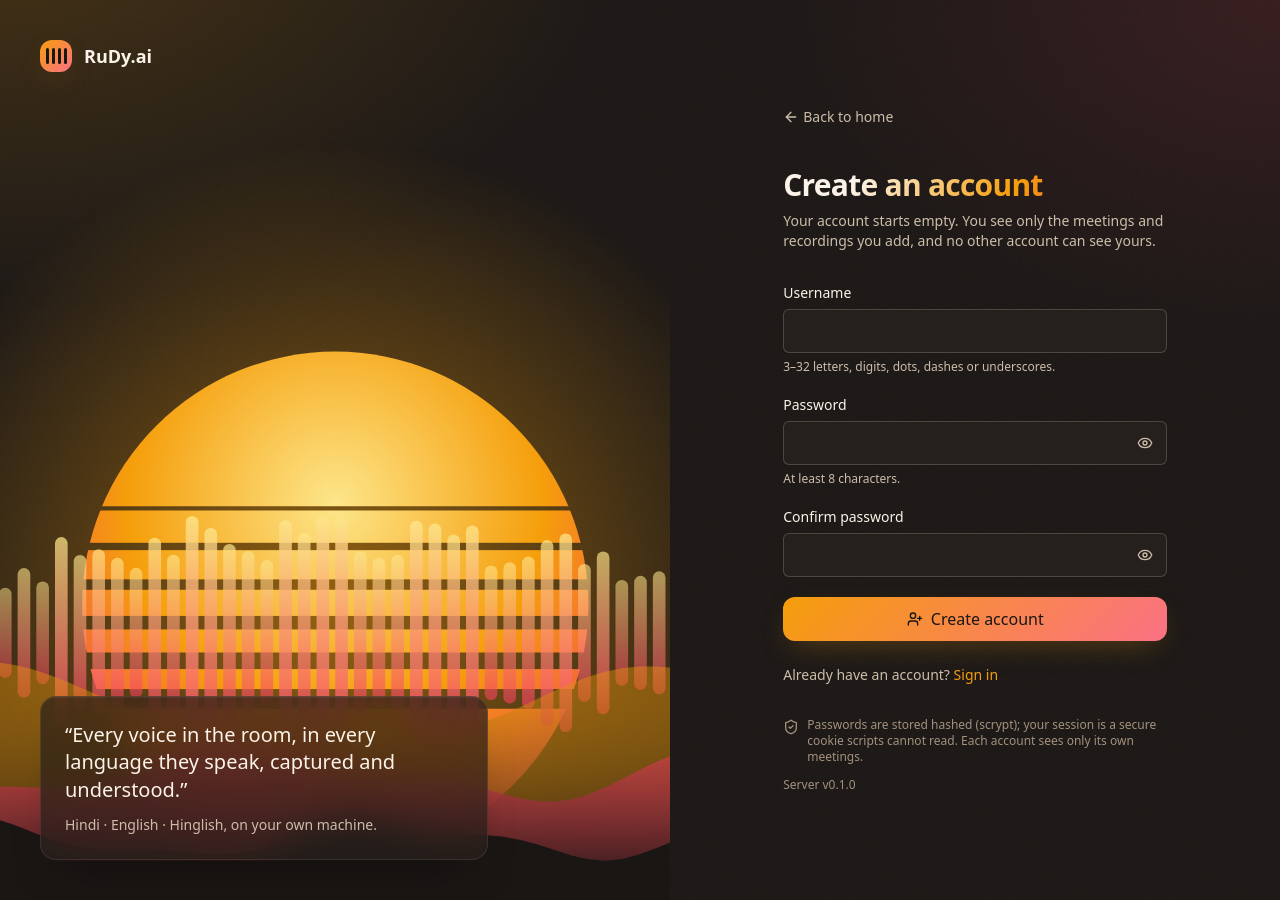
Test: creating another account › shows the server refusing a taken username
In the field labelled "Username": x=975, y=331 [783,309,1167,353], type "rushi"
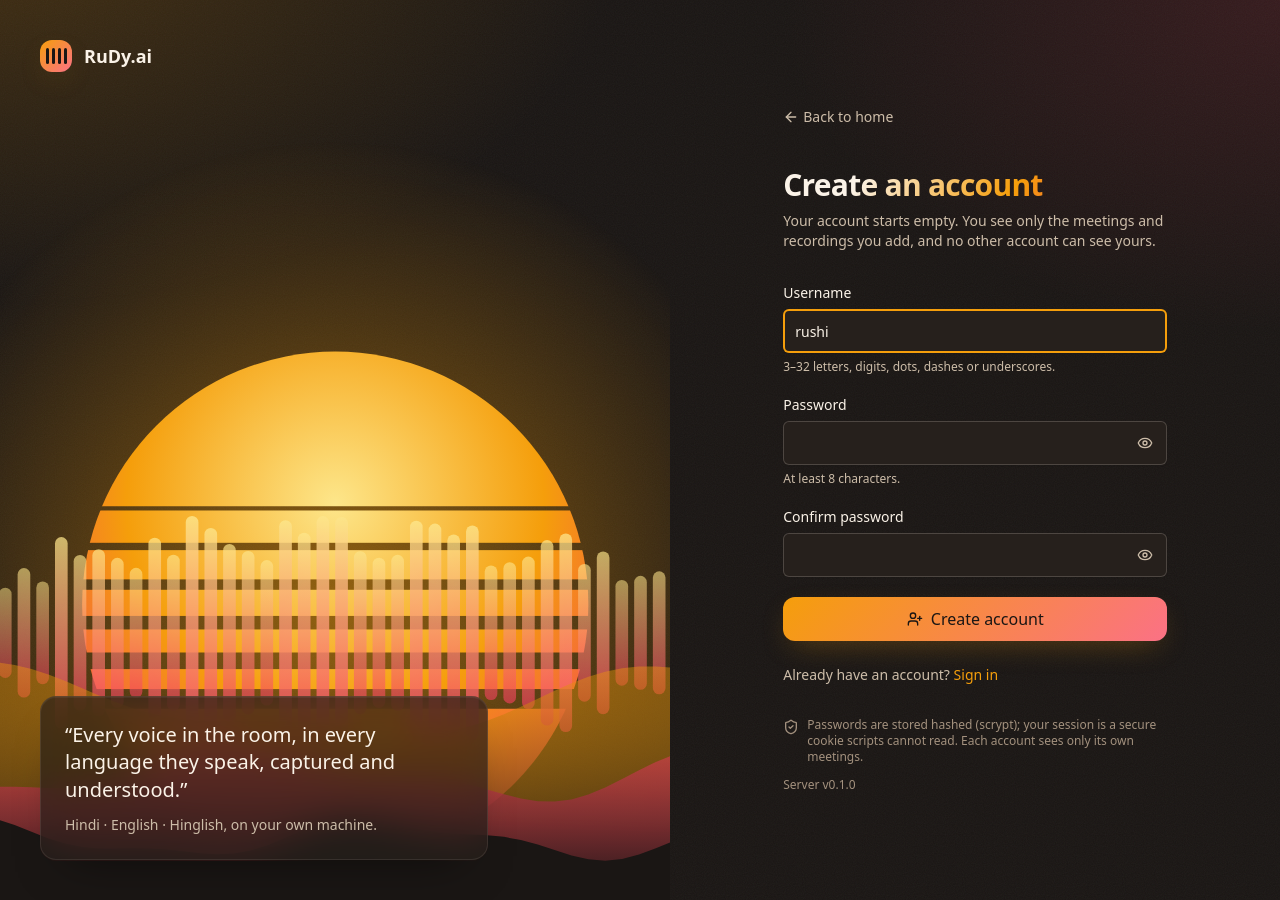
In the password field labelled "Password": x=975, y=443 [783,421,1167,465], type "a-good-password"
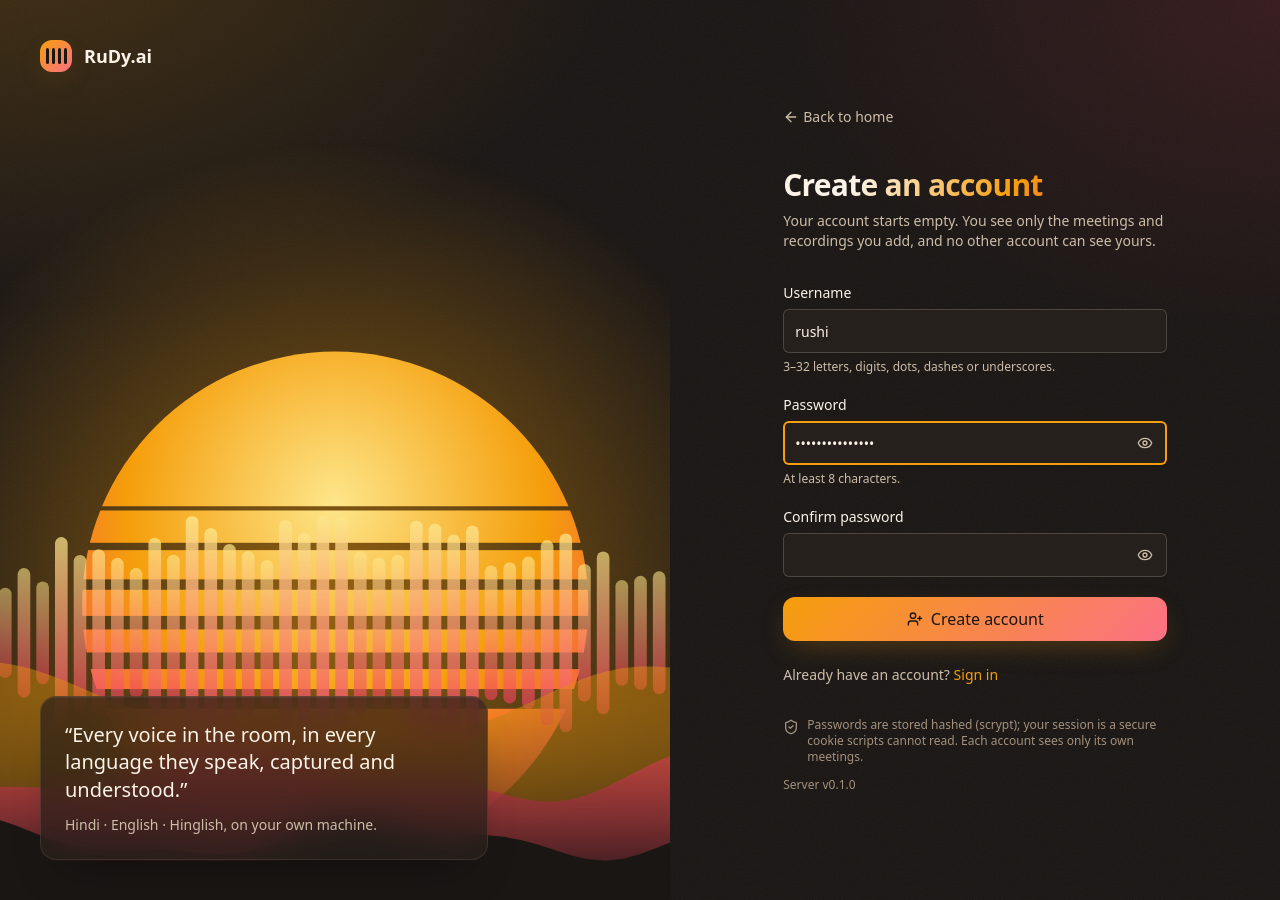
In the password field labelled "Confirm password": x=975, y=555 [783,533,1167,577], type "a-good-password"
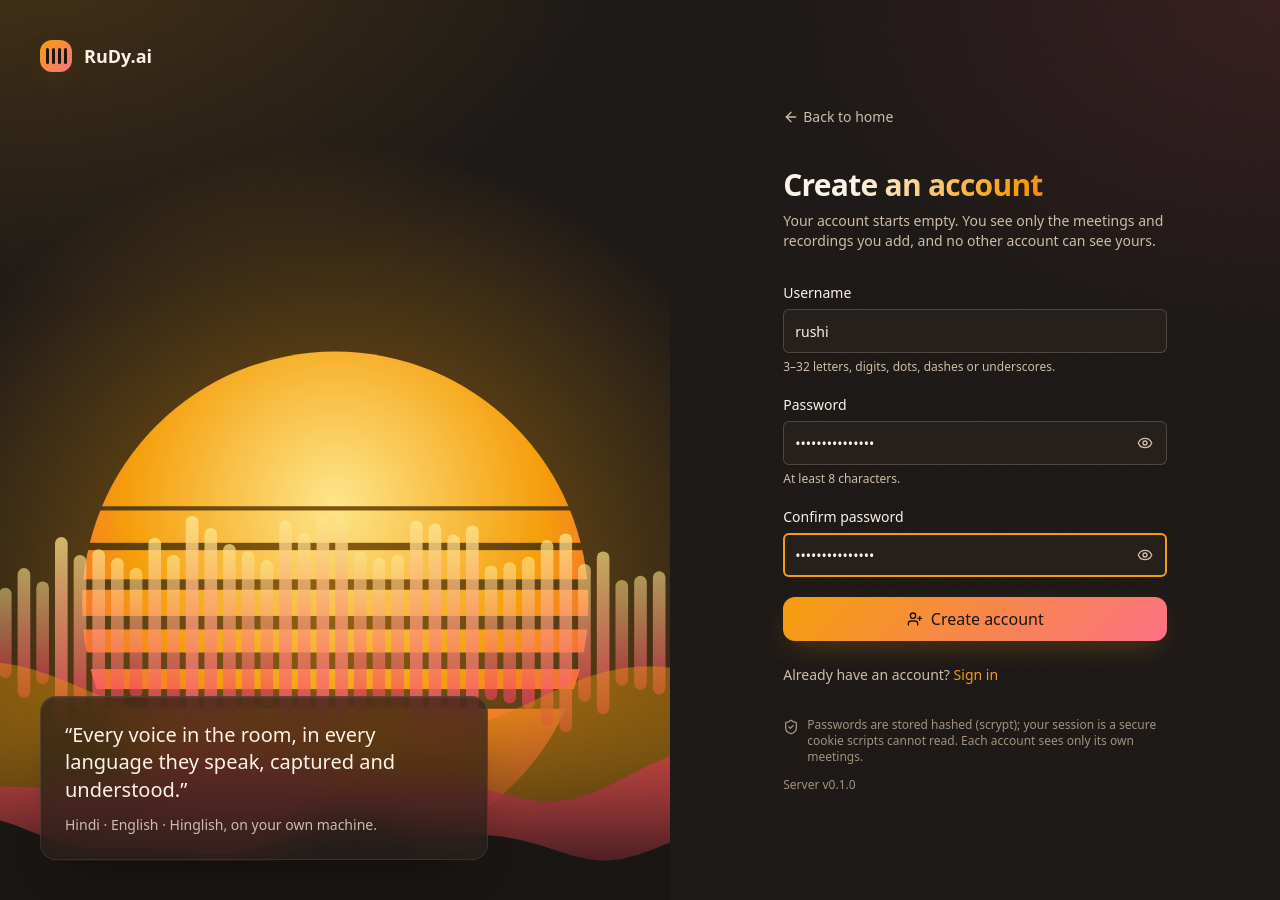
Click the button "Create account": x=975, y=619 [783,597,1167,641]
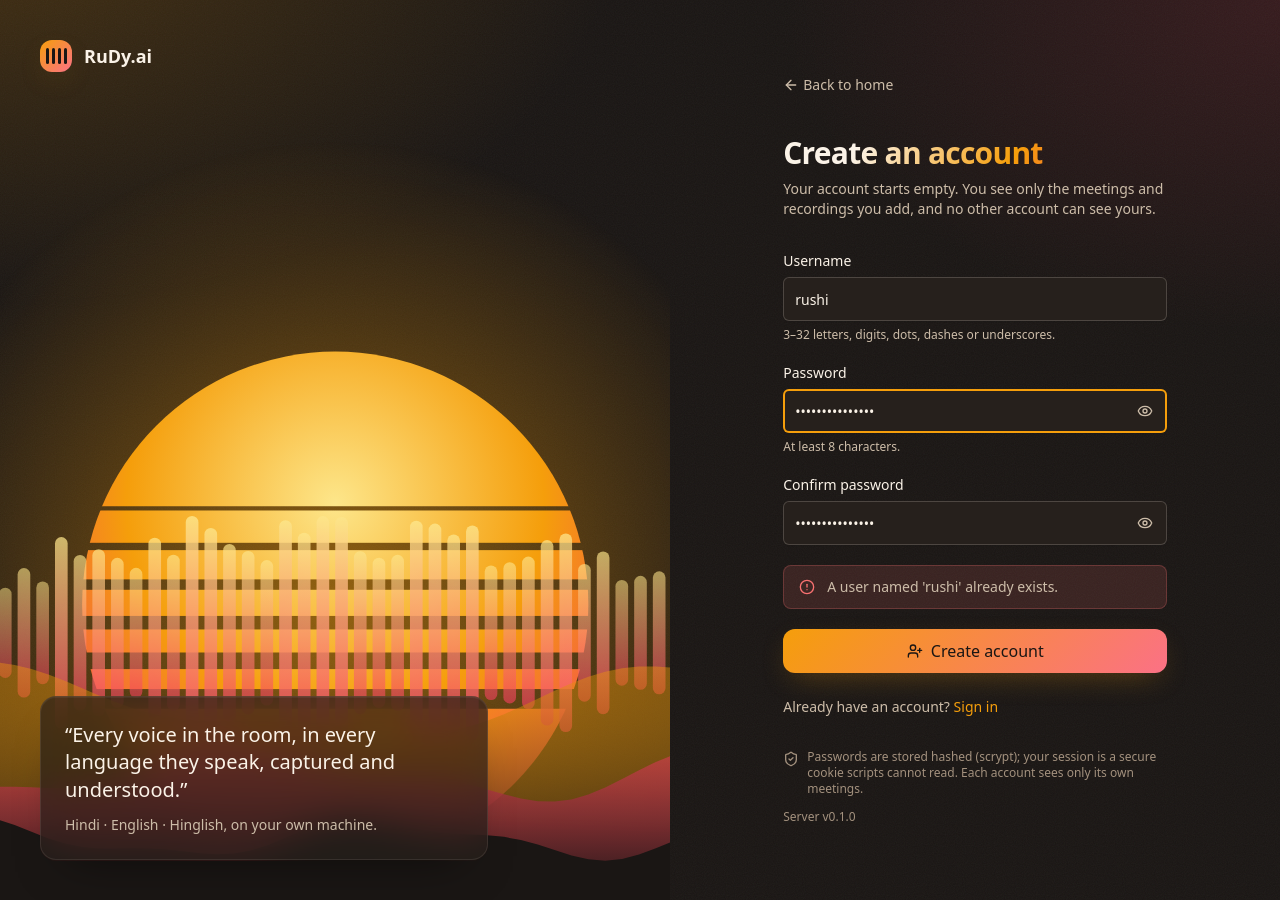
Expected: the text "A user named 'rushi' already exists." is shown, [827,577,1058,597]
